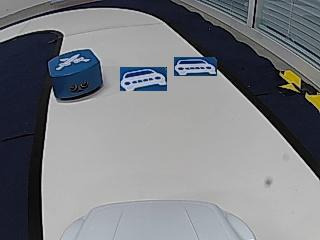spy: (57, 54, 89, 69)
